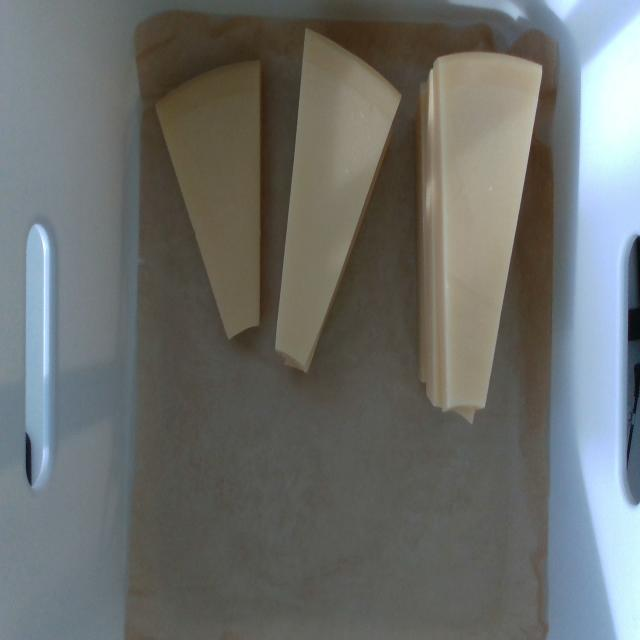cheese: (276, 29, 400, 365), (438, 51, 541, 410), (156, 63, 260, 338)
